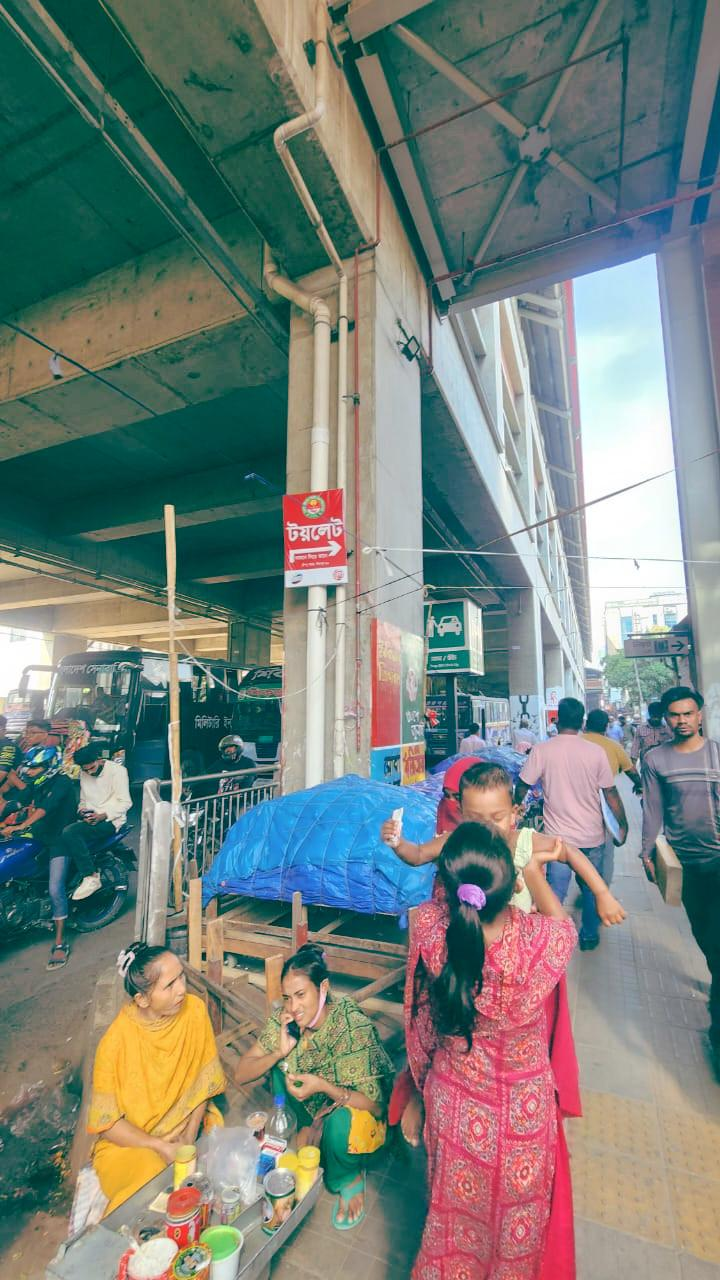Metro Dorp Up Pick up: (424, 580, 487, 683)
